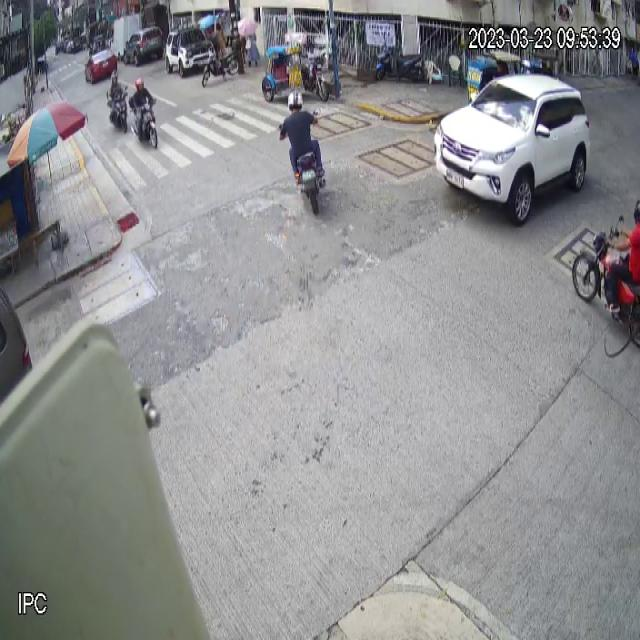Car: (433, 73, 590, 225)
Motorcycle: (130, 99, 158, 151)
Tricycle: (261, 32, 330, 103)
